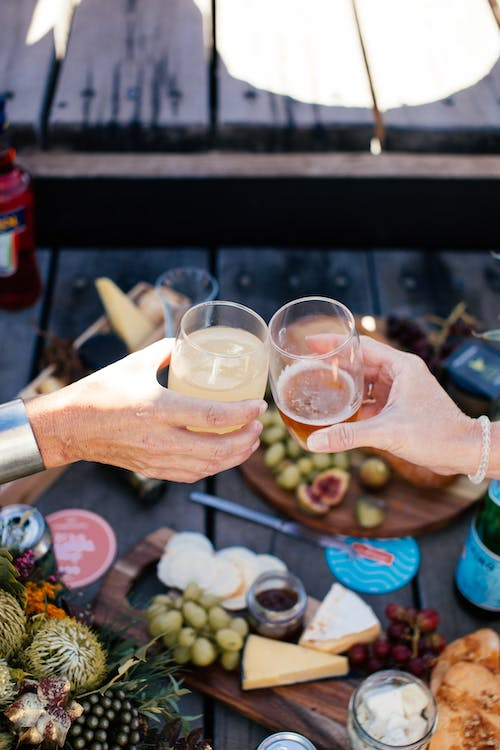alcohol: (268, 294, 364, 454), (166, 298, 267, 435)
